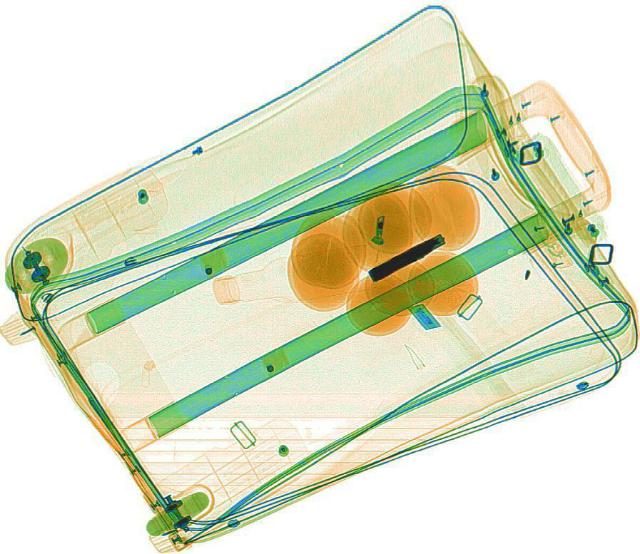Gun: (362, 229, 452, 281)
